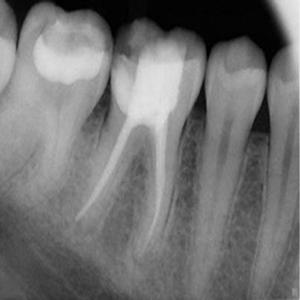tooth: (67, 18, 207, 259), (2, 1, 116, 233), (191, 38, 264, 280), (256, 43, 300, 300)
